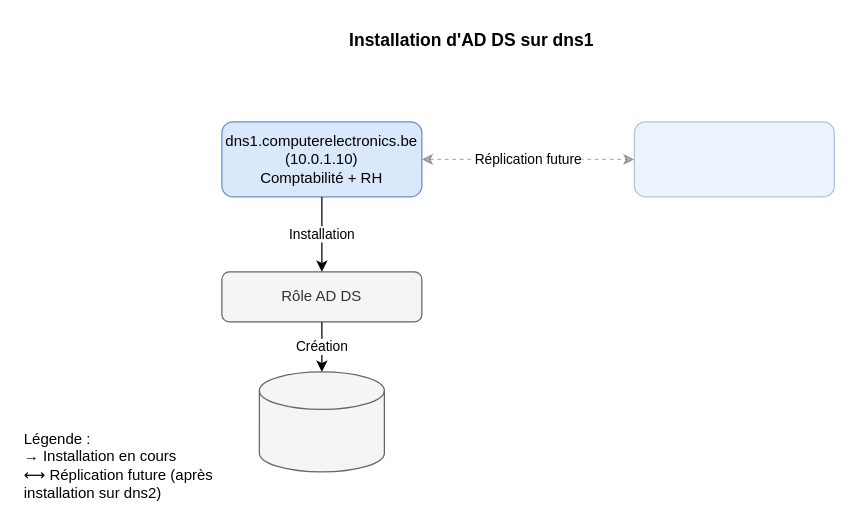
Some shapes in this 856 by 524 pixel diagram are drawn without their labels. Each missing label, with the box of its shape:
Base de données AD DS: (258, 371, 384, 472)
dns2.computerelectronics.be (10.0.1.11) Ventes: (633, 121, 834, 197)
